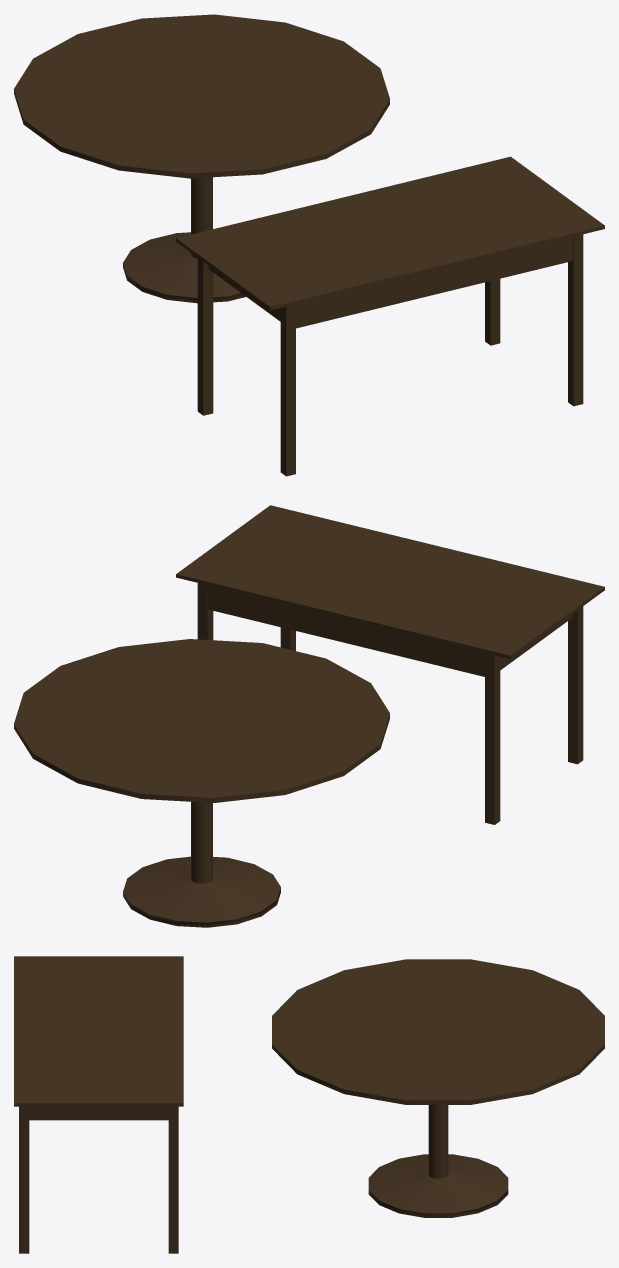
3 views of the same model, one above another, from view 1: azimuth 30°, elevation 25°; view 2: azimuth 150°, elevation 25°; view 3: azimuth 270°, elevation 25° (orthographic). The views are drawn at different scales.
Parts seen in each view (by area): view 1: Round, Rectangular; view 2: Round, Rectangular; view 3: Round, Rectangular.
Part boxes in pixels (x1=…): Round: x1=14, y1=14, x2=389, y2=303; Rectangular: x1=176, y1=156, x2=604, y2=476; Round: x1=14, y1=639, x2=389, y2=927; Rectangular: x1=176, y1=505, x2=604, y2=824; Round: x1=272, y1=959, x2=604, y2=1217; Rectangular: x1=14, y1=956, x2=183, y2=1253.
Bounding box in the file's own units: 2.05 × 1.03 × 3.48.
